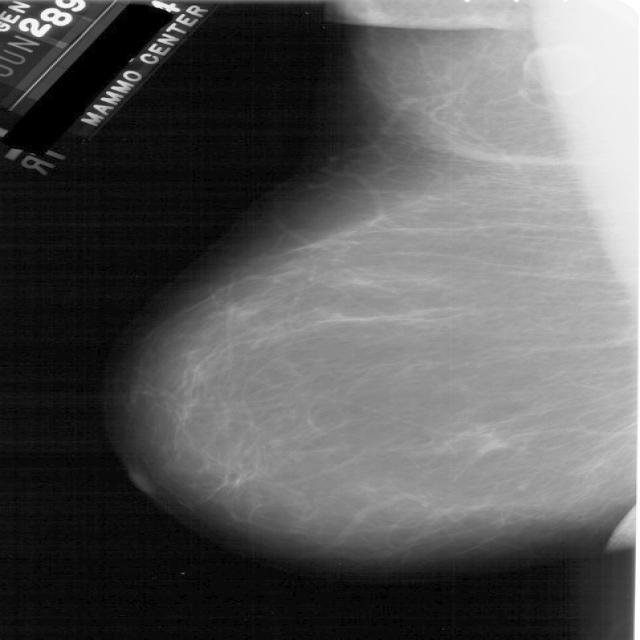tumour: (457, 424, 508, 456)
